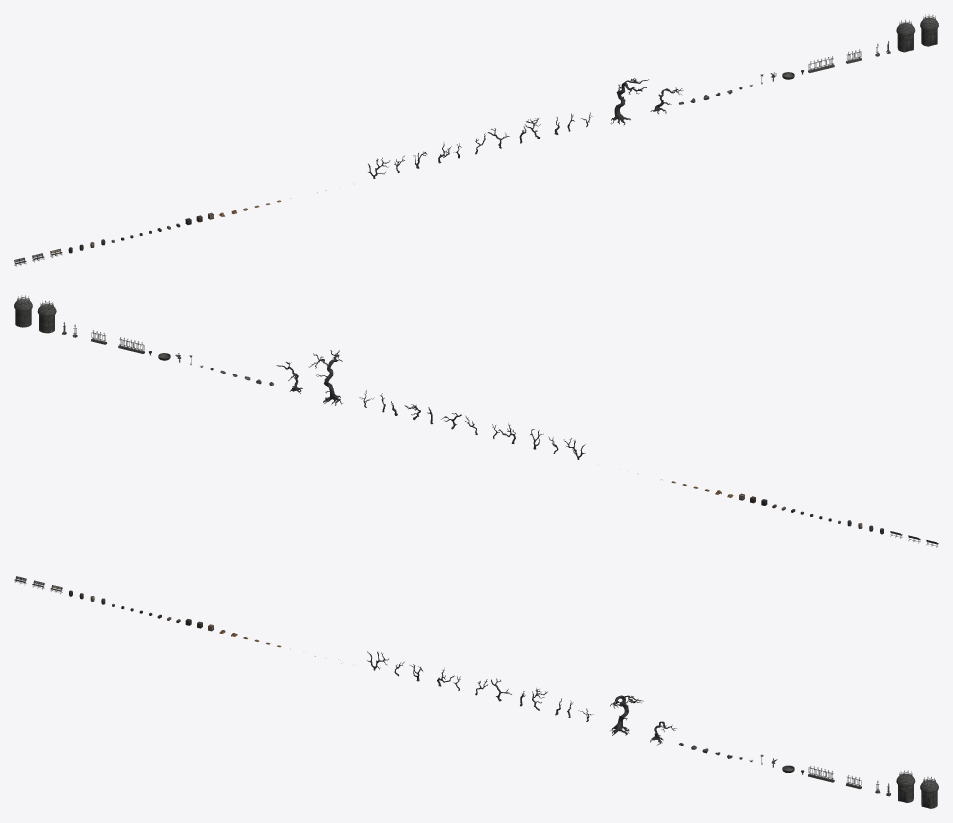
Rendered from kit_props.glb.
3 renders of one model, top to bottom at view 1: azimuth 30°, elevation 25°; view 2: azimuth 150°, elevation 25°; view 3: azimuth 330°, elevation 25°, orthographic.
Visible parts, largest first — view 1: no part large enough to name; view 2: no part large enough to name; view 3: SM_Cabin_02, SM_Cabin_01.
Part boxes in pixels (x1,y1,x2,y2): SM_Cabin_02: (920, 777, 938, 808); SM_Cabin_01: (896, 770, 915, 802).
Size of the model in its own units: 189 by 8.19 by 7.76.
Materials: 4 (4 with a texture image).
